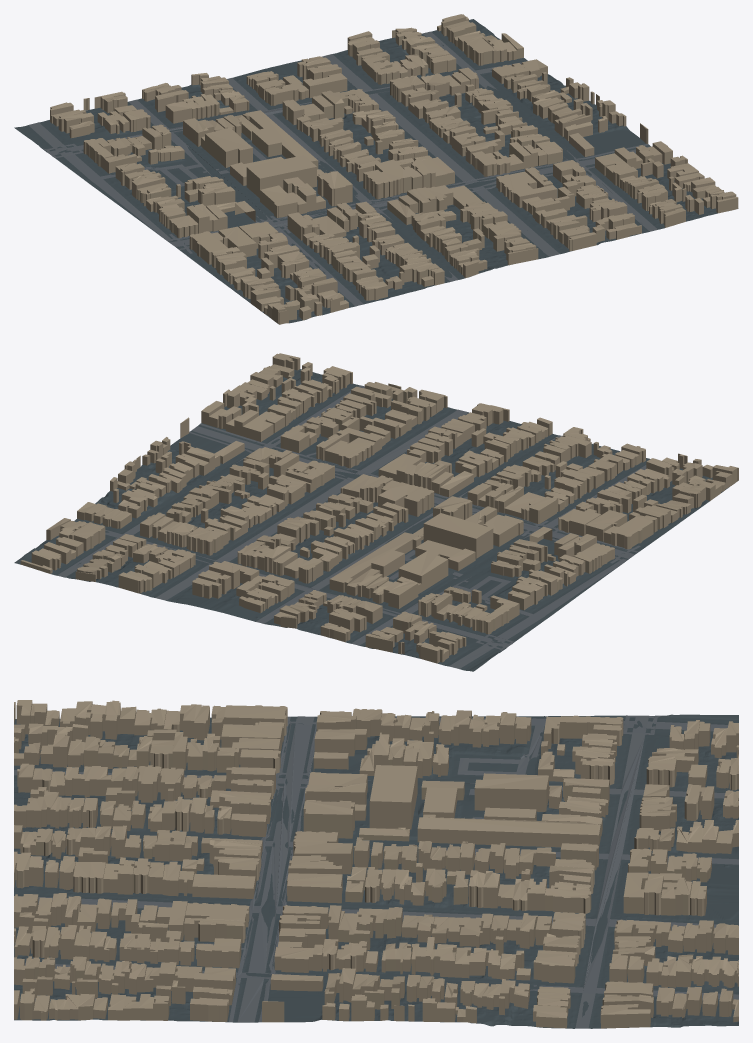
Rendered from epsg26910-1437-10881.lod0.glb.
3 renders of one model, top to bottom at view 1: azimuth 30°, elevation 25°; view 2: azimuth 150°, elevation 25°; view 3: azimuth 270°, elevation 25°, orthographic. The views are drawn at different scales.
Parts seen in each view (by area): view 1: epsg26910-1437-10881-lod0; view 2: epsg26910-1437-10881-lod0; view 3: epsg26910-1437-10881-lod0.
Boxes of the visible parts, left/top/right/bottom form: epsg26910-1437-10881-lod0: left=14, top=14, right=738, bottom=324; epsg26910-1437-10881-lod0: left=14, top=353, right=738, bottom=671; epsg26910-1437-10881-lod0: left=14, top=700, right=738, bottom=1028.
Size of the model in its own units: 384 by 19.69 by 384.
